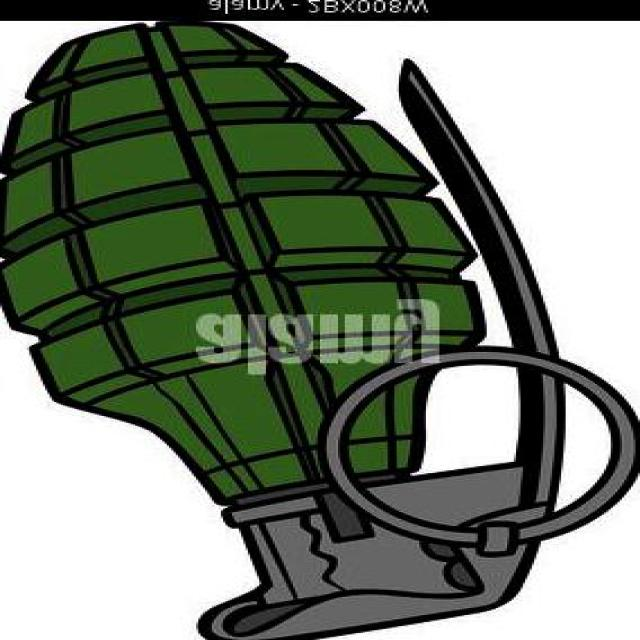grenade: (1, 23, 639, 640)
